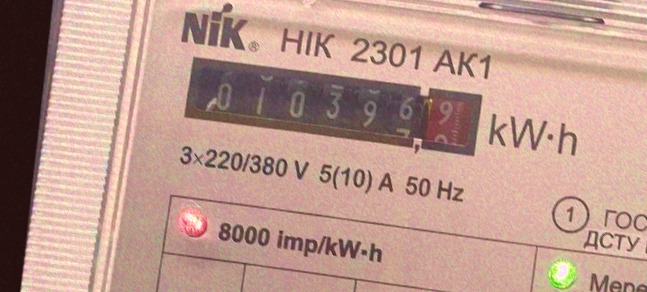0: (281, 85, 307, 121), (209, 77, 232, 112)
1: (250, 82, 266, 116)
3: (320, 88, 342, 122)
6: (392, 92, 416, 123)
9: (354, 95, 377, 130), (429, 97, 454, 129)
screen: (165, 42, 492, 171)
